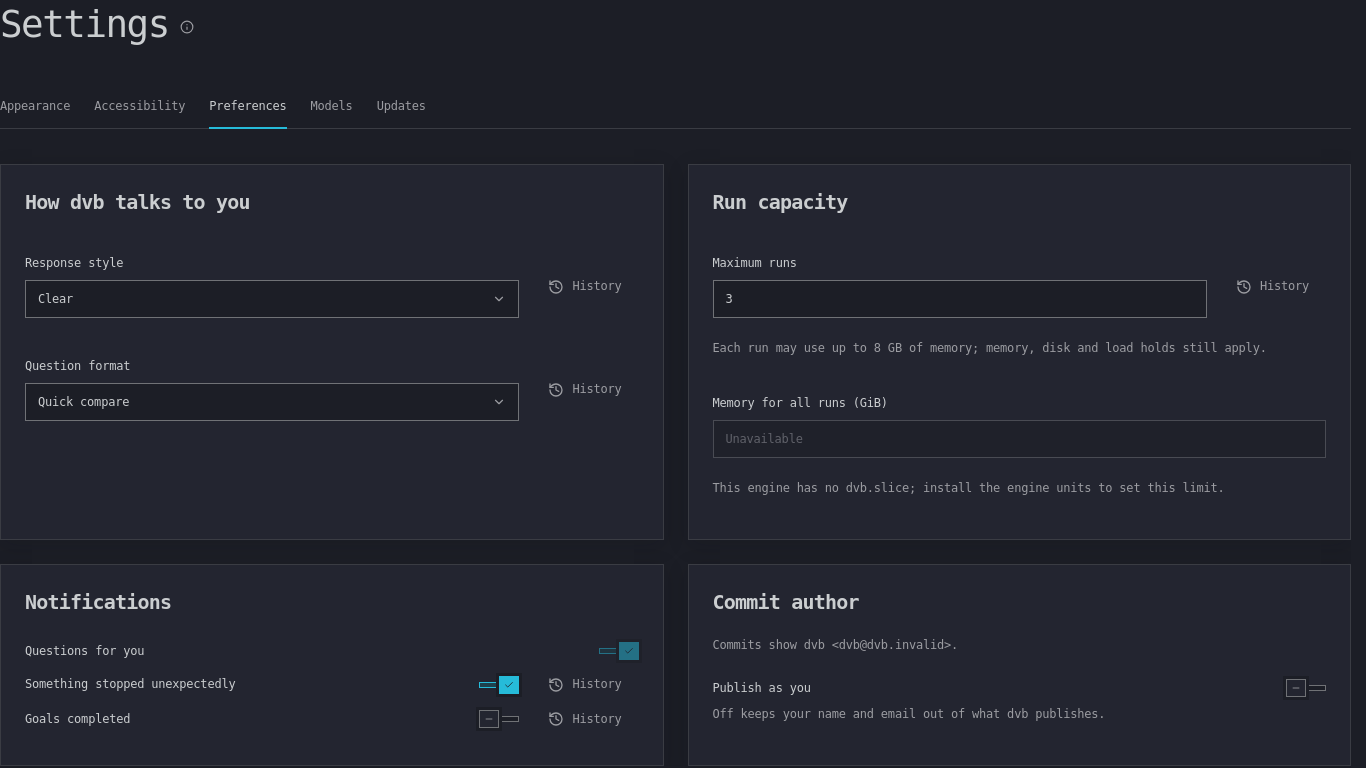
Test: history and restore › sends the event and current value, and reloads with a message on VALUE_CHANGED
Click the button with aria-label "History of Response style" at (585, 287), box 531,269 -> 638,304
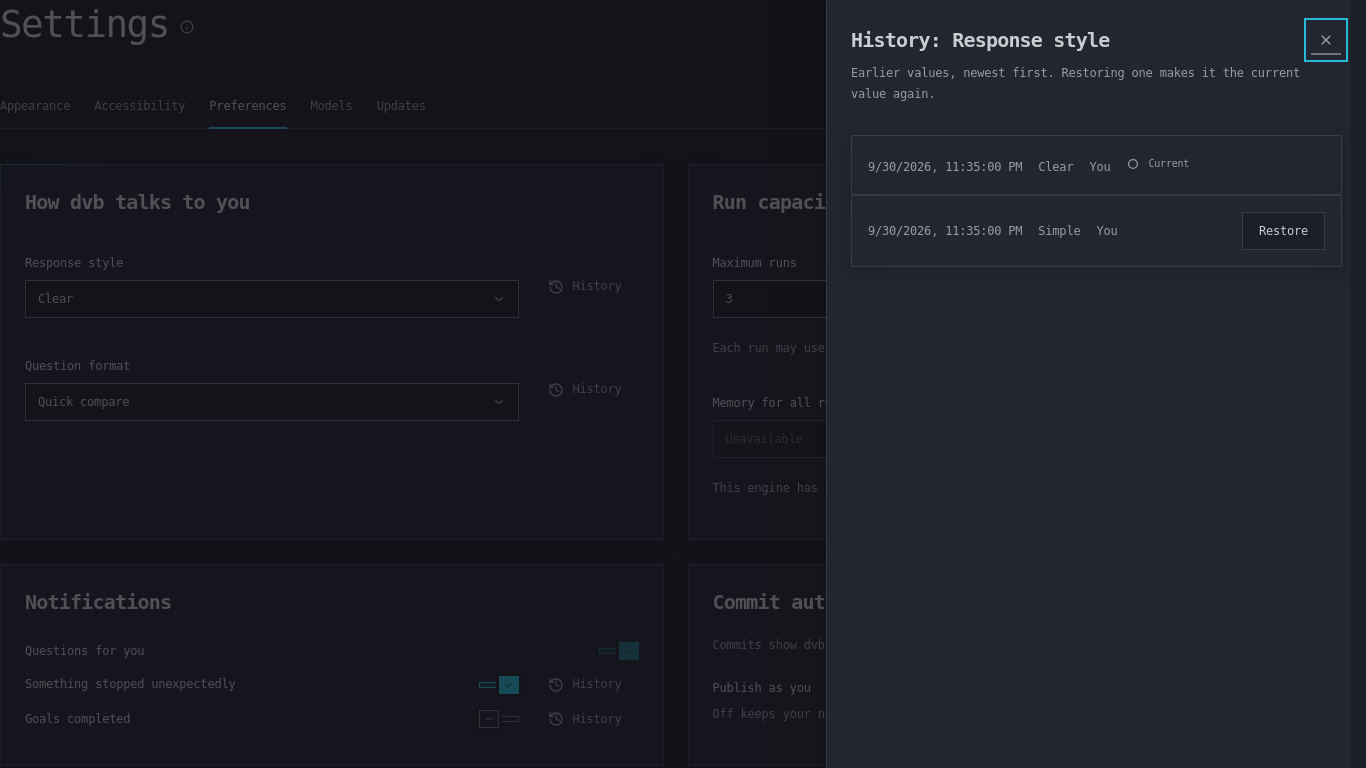
Click the button "Restore" at (1283, 231), box 1242,212 -> 1325,250
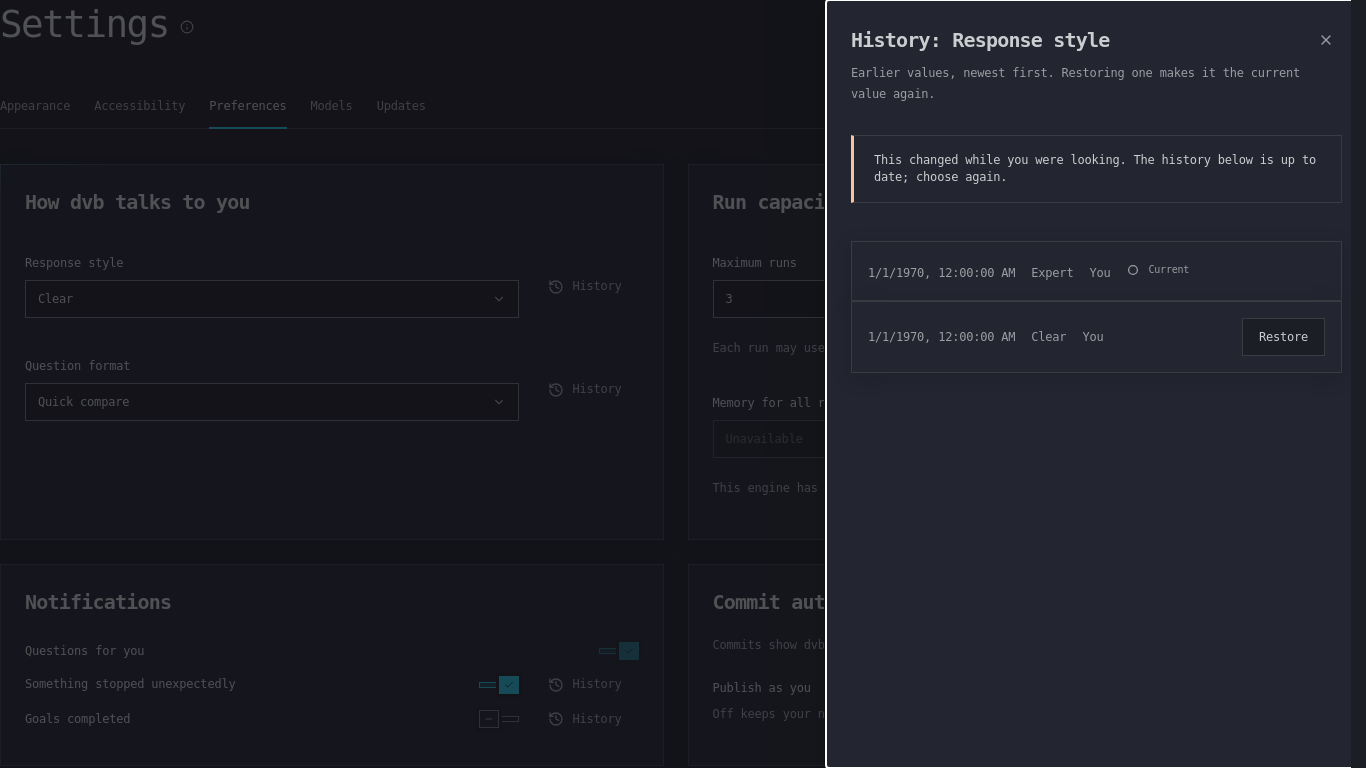
Expected: the text "This changed while you were looking" is shown, 874,153 -> 1316,184
Expected: the text "Expert" is shown, 1031,263 -> 1073,284
Click the button "Restore" at (1283, 337), box 1242,318 -> 1325,356
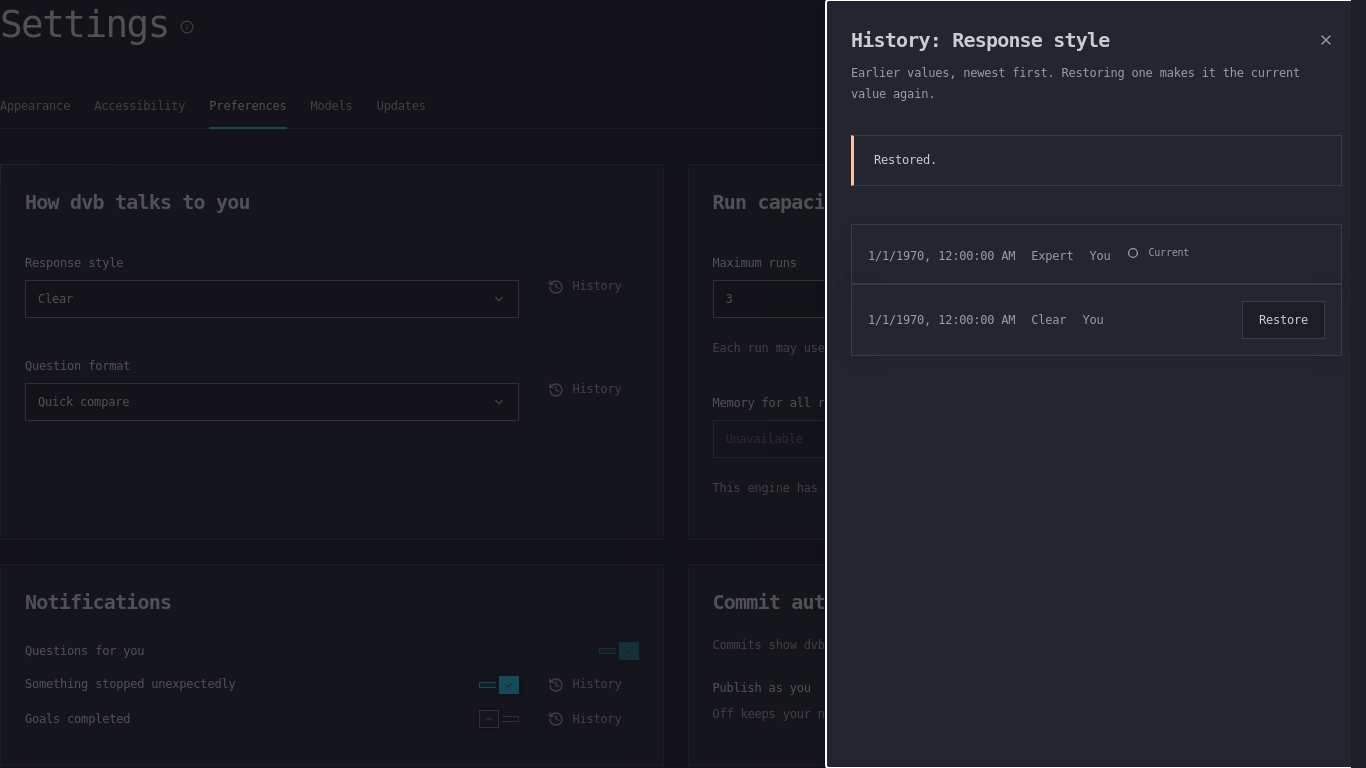
Expected: the text "Restored." is shown, 851,135 -> 1342,186
